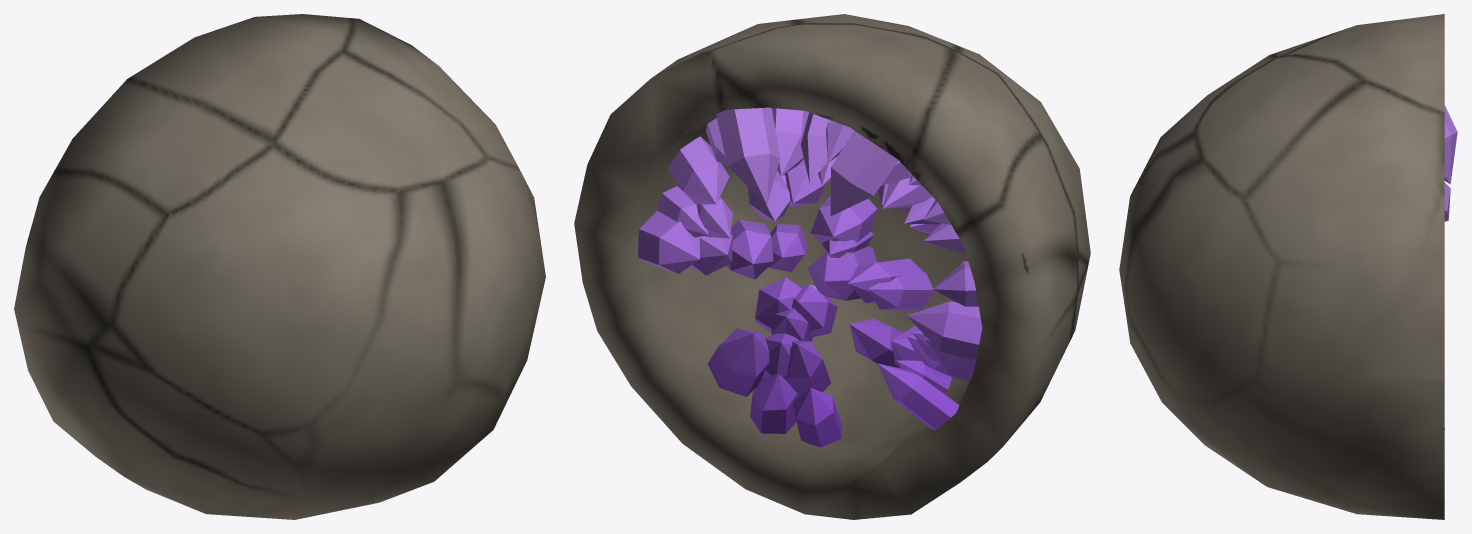
File: geoda_amatista.fbx
3 renders of one model, left to right at view 1: azimuth 30°, elevation 25°; view 2: azimuth 150°, elevation 25°; view 3: azimuth 270°, elevation 25°, orthographic. The views are drawn at different scales.
Parts seen in each view (by area): view 1: geoda_amatista; view 2: geoda_amatista, geoda_amatista_cristal; view 3: geoda_amatista, geoda_amatista_cristal.
Part boxes in pixels (x1=…): geoda_amatista: x1=14, y1=14, x2=545, y2=519; geoda_amatista: x1=574, y1=14, x2=1090, y2=519; geoda_amatista_cristal: x1=638, y1=107, x2=982, y2=447; geoda_amatista: x1=1119, y1=14, x2=1444, y2=519; geoda_amatista_cristal: x1=1444, y1=105, x2=1457, y2=429.
Size of the model in its own units: 3.2 by 3.03 by 2.03.
Materials: 2 (2 with a texture image).
